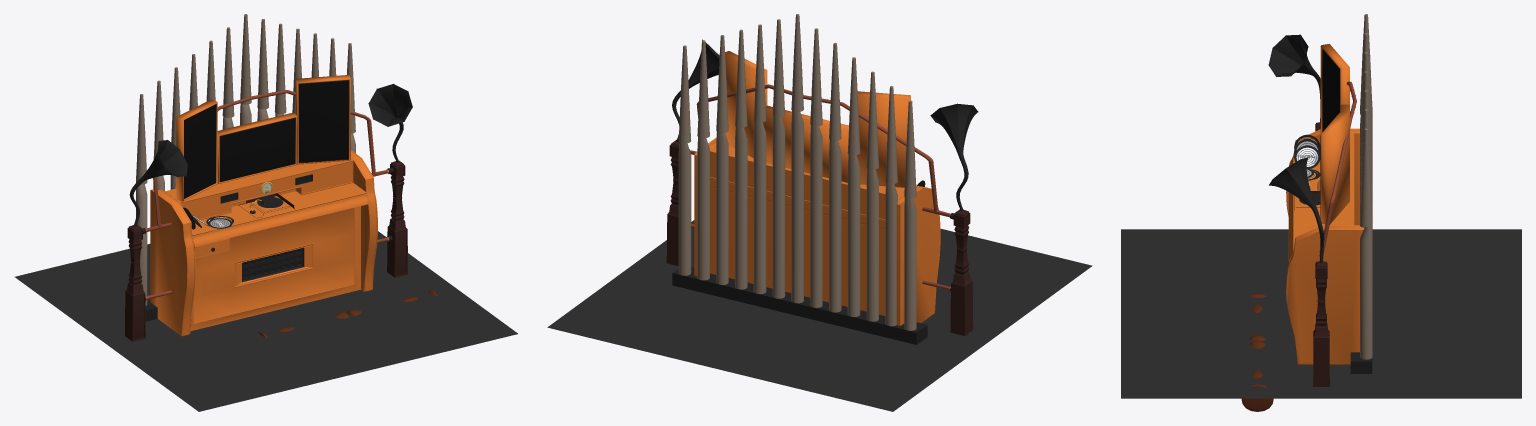
Rendered from Computer.fbx.
3 views of the same model, side by side, from view 1: azimuth 30°, elevation 25°; view 2: azimuth 150°, elevation 25°; view 3: azimuth 270°, elevation 25° (orthographic). The views are drawn at different scales.
Visible parts, largest first — view 1: Plane, Cube, Cylinder, Cube.002, Cube.008, Glass.001, Glass, Cube.003, Cube.001, Glass.002, Cube.011, Cube.005 (+1 smaller); view 2: Cylinder, Plane, Cube, Cube.008, Cube.002, Cube.006, Glass.002, Glass, Cube.003, Glass.001, Cube.011, Cube.001; view 3: Plane, Cube.002, Cube.008, Cylinder, Glass.001, Glass.002, Cube.001, Cube.012, Cube.011, Cube.003, Cylinder.005, Cube.006.
Part boxes in pixels (x1=…): Plane: x1=14, y1=231, x2=517, y2=411; Cube: x1=190, y1=206, x2=360, y2=330; Cylinder: x1=136, y1=14, x2=355, y2=305; Cube.002: x1=150, y1=150, x2=377, y2=336; Cube.008: x1=125, y1=84, x2=412, y2=341; Glass.001: x1=295, y1=75, x2=350, y2=164; Glass: x1=217, y1=112, x2=296, y2=183; Cube.003: x1=165, y1=158, x2=353, y2=220; Cube.001: x1=192, y1=183, x2=368, y2=246; Glass.002: x1=176, y1=99, x2=217, y2=201; Cube.011: x1=142, y1=90, x2=393, y2=300; Cube.005: x1=242, y1=247, x2=304, y2=282; Cylinder: x1=678, y1=14, x2=916, y2=330; Plane: x1=547, y1=220, x2=1092, y2=411; Cube: x1=710, y1=187, x2=885, y2=315; Cube.008: x1=666, y1=39, x2=978, y2=335; Cube.002: x1=694, y1=137, x2=940, y2=325; Cube.006: x1=672, y1=267, x2=927, y2=344; Glass.002: x1=857, y1=91, x2=910, y2=187; Glass: x1=763, y1=105, x2=848, y2=182; Cube.003: x1=710, y1=146, x2=904, y2=218; Glass.001: x1=725, y1=51, x2=767, y2=157; Cube.011: x1=689, y1=84, x2=954, y2=291; Cube.001: x1=710, y1=176, x2=885, y2=229; Plane: x1=1121, y1=229, x2=1521, y2=398; Cube.002: x1=1286, y1=128, x2=1364, y2=364; Cube.008: x1=1268, y1=34, x2=1329, y2=386; Cylinder: x1=1360, y1=14, x2=1372, y2=359; Glass.001: x1=1320, y1=110, x2=1349, y2=224; Glass.002: x1=1320, y1=44, x2=1349, y2=133; Cube.001: x1=1288, y1=158, x2=1320, y2=260; Cube.012: x1=1241, y1=294, x2=1273, y2=411; Cube.011: x1=1319, y1=81, x2=1356, y2=260; Cube.003: x1=1322, y1=133, x2=1354, y2=225; Cylinder.005: x1=1294, y1=145, x2=1320, y2=168; Cube.006: x1=1350, y1=352, x2=1372, y2=373.
Bounding box in the file's own units: 368 × 329 × 368.
